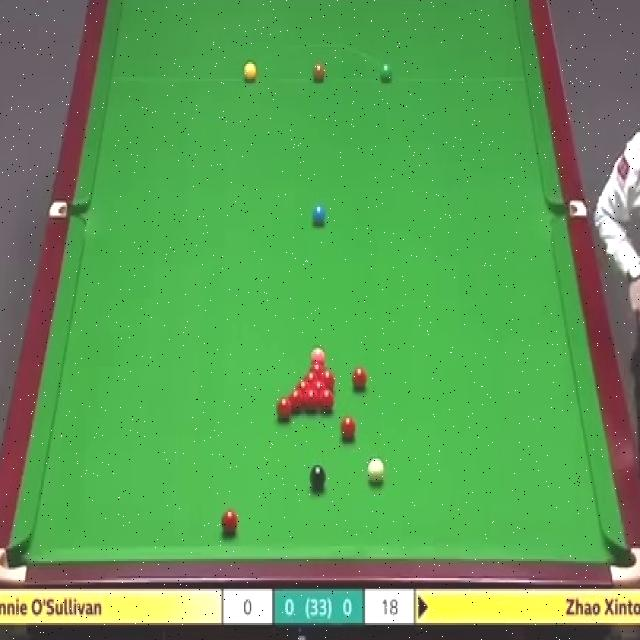black-ball: (308, 466, 327, 492)
blue-ball: (311, 203, 326, 228)
brown-ball: (313, 64, 326, 85)
green-ball: (378, 63, 394, 85)
pink-ball: (313, 351, 328, 363)
red-ball: (221, 509, 239, 533), (318, 389, 335, 414), (341, 416, 357, 439), (352, 370, 368, 392), (285, 392, 301, 413), (304, 389, 318, 412), (324, 371, 339, 391), (277, 400, 291, 420), (296, 384, 310, 402), (304, 372, 320, 387), (312, 378, 326, 393), (313, 362, 325, 379)
white-ball: (367, 455, 386, 482)
yellow-ball: (243, 62, 256, 82)
